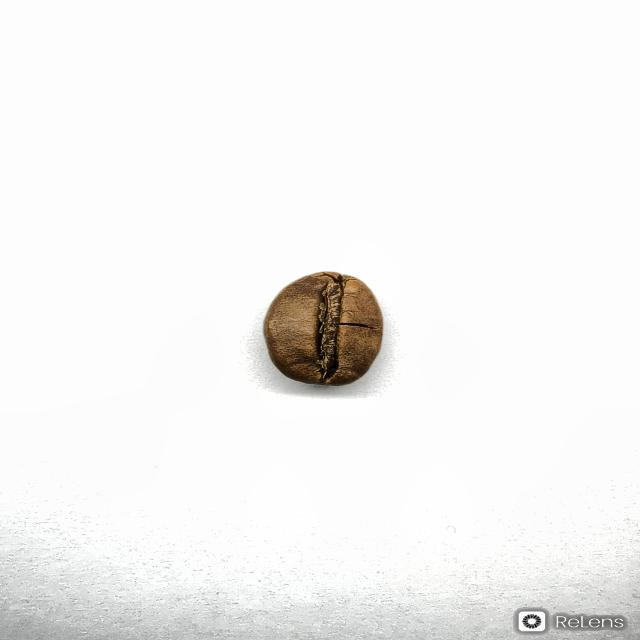Good bean: (262, 270, 384, 386)
